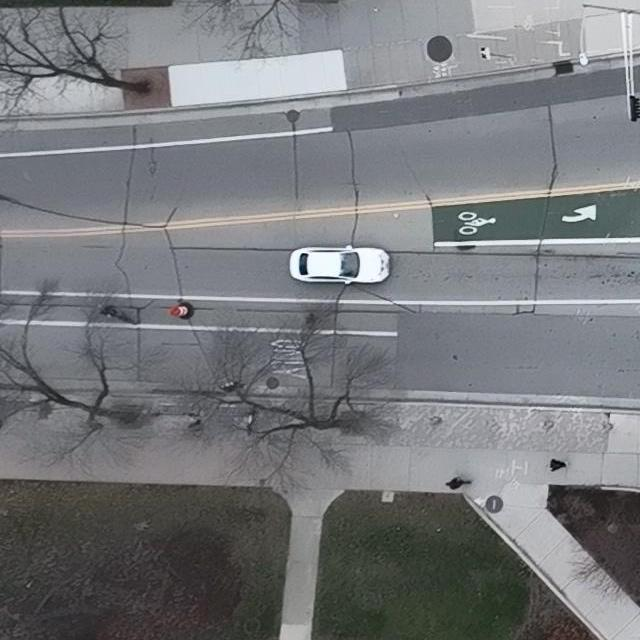car: (289, 245, 391, 285)
